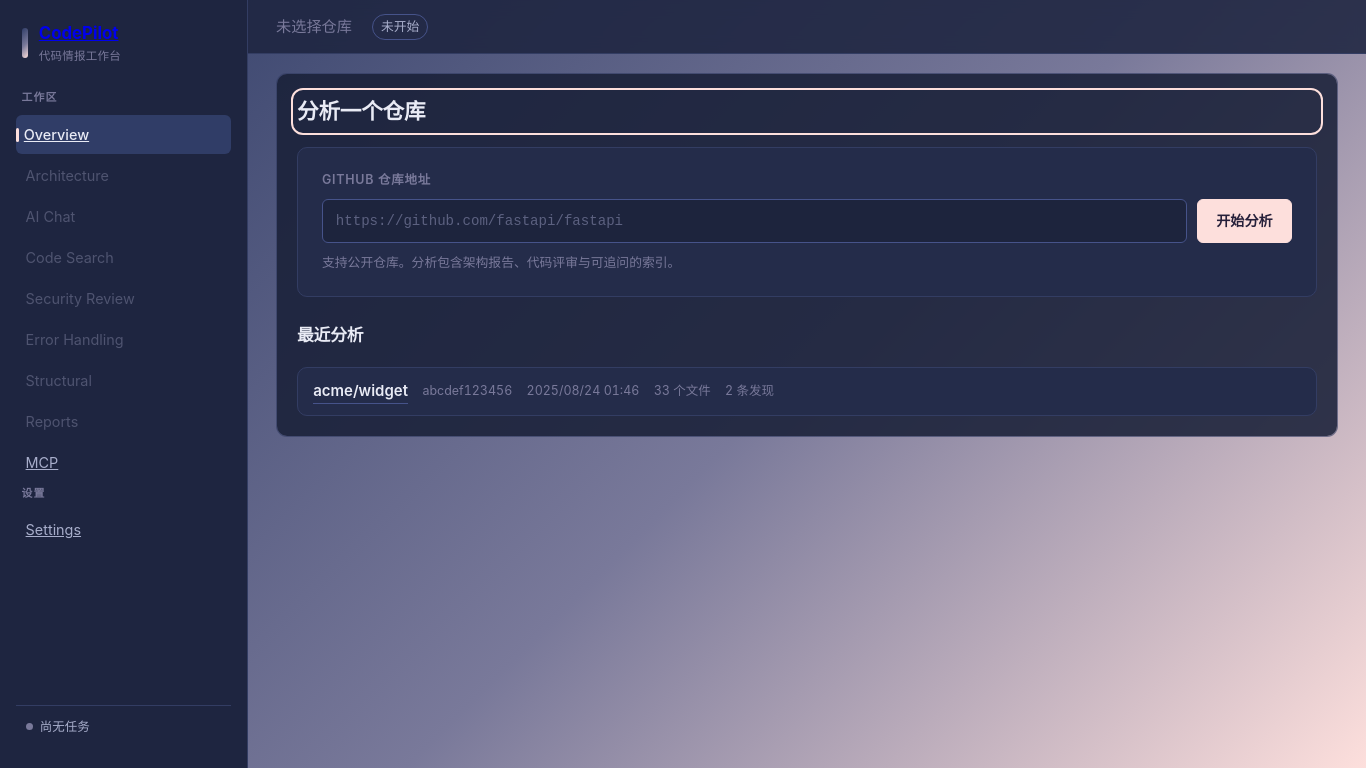
Test: 提交入口 › 未配置凭证时被前端拦截并给出设置页入口（R-49）
Type "https://github.com/acme/widget" into the field labelled "GitHub 仓库地址" at {"x": 755, "y": 221}, box x1=322 y1=199 x2=1187 y2=243
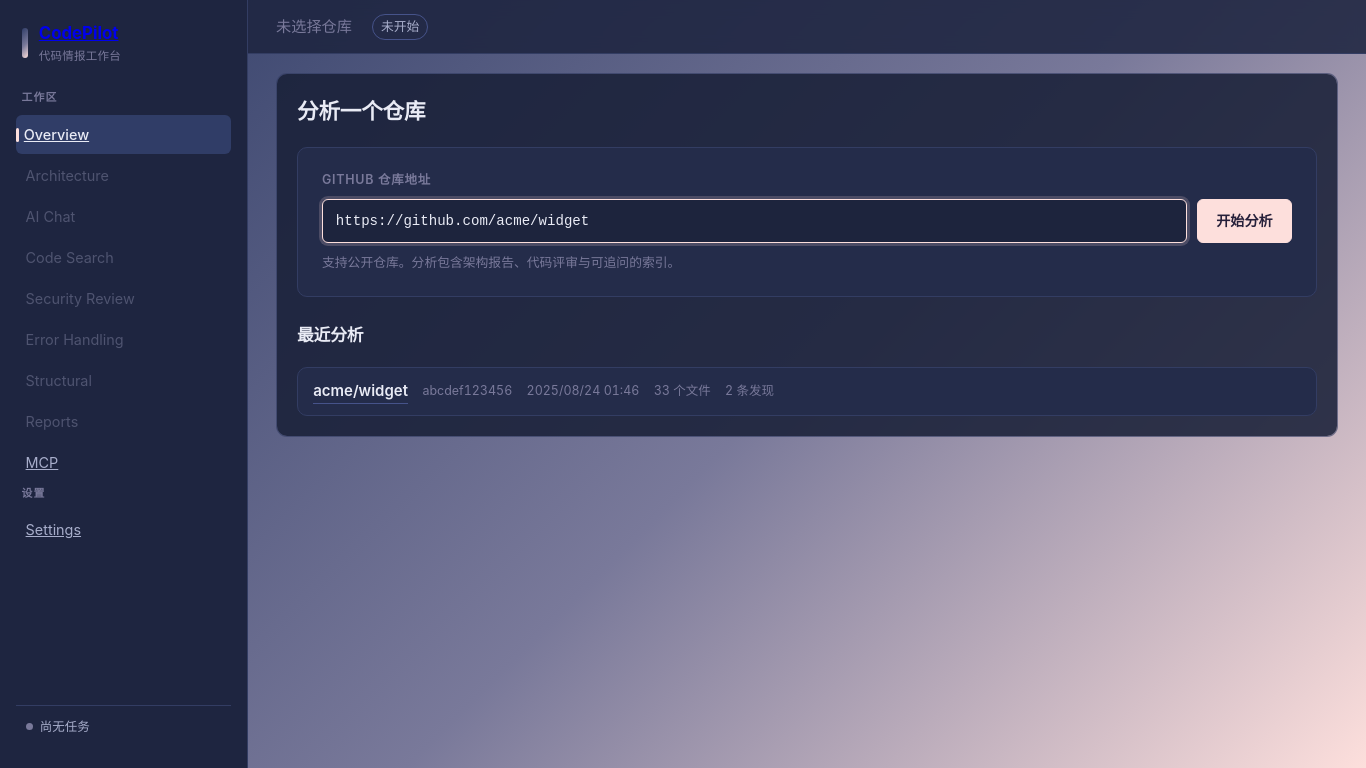
Click the button "开始分析" at {"x": 1244, "y": 221}, box x1=1197 y1=199 x2=1292 y2=243
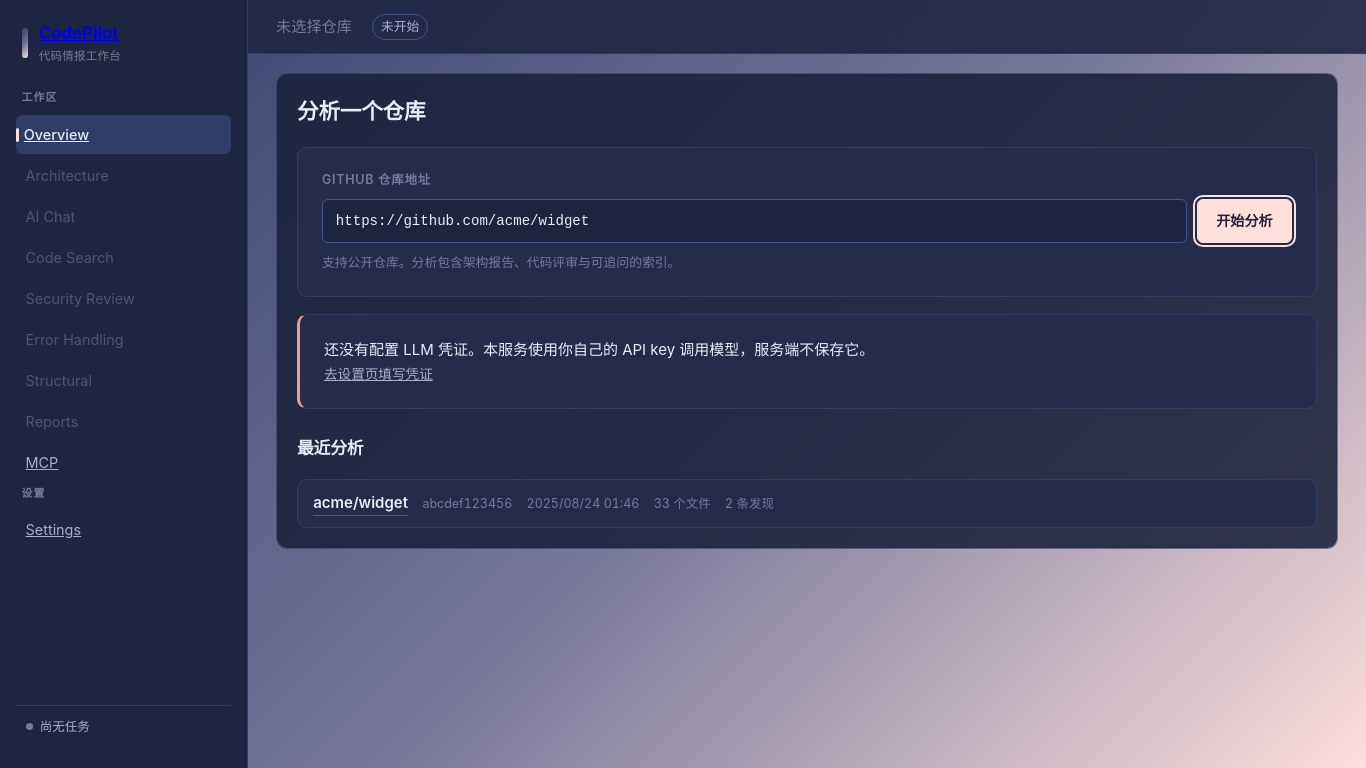
Expected: the message shows "还没有配置 LLM 凭证", x1=324 y1=340 x2=874 y2=358
Expected: the link "去设置页填写凭证" is shown, x1=324 y1=366 x2=433 y2=382
